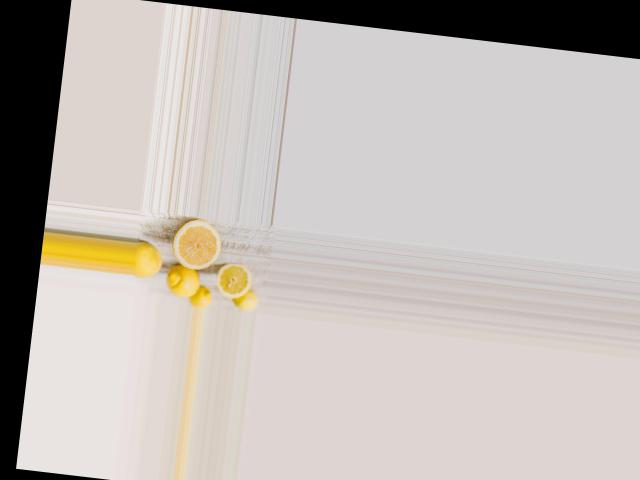lemon: (132, 238, 167, 281)
